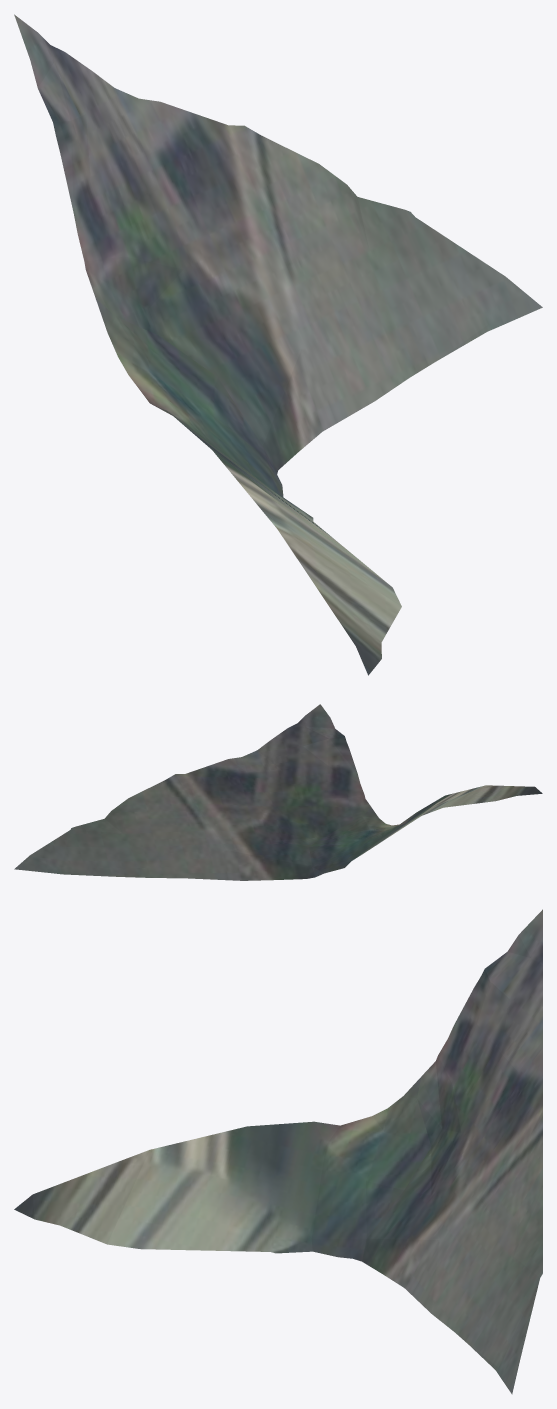
The model's file is Tile__003__005_L20_000300.glb.
The picture shows the model from 3 angles, top to bottom: view 1: azimuth 30°, elevation 25°; view 2: azimuth 150°, elevation 25°; view 3: azimuth 270°, elevation 25°; orthographic projection. The views are drawn at different scales.
Parts seen in each view (by area): view 1: root; view 2: root; view 3: root.
Part boxes in pixels (x1,y1,x2,y2): root: (14, 14, 542, 675); root: (14, 704, 542, 880); root: (14, 909, 542, 1394).
Size of the model in its own units: 19.09 by 14.43 by 23.04.
Materials: 1 (1 with a texture image).
